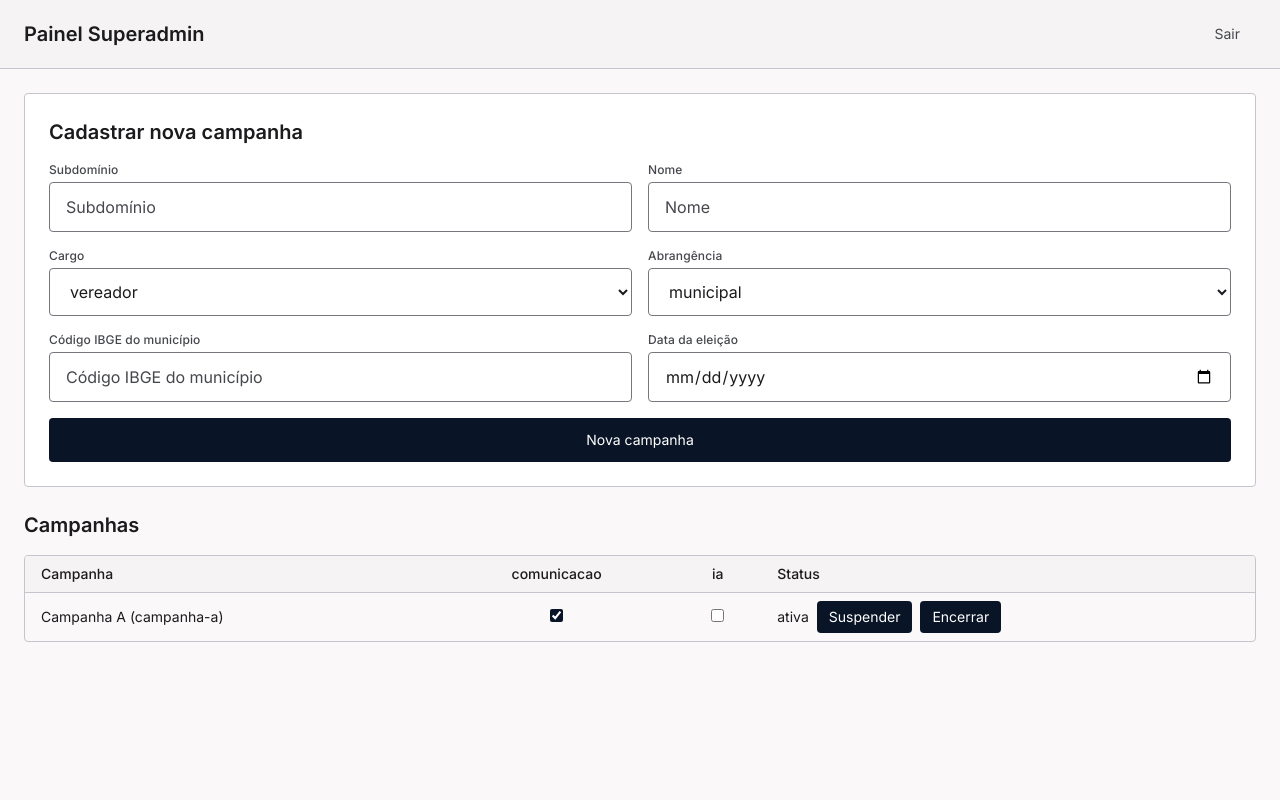
Test: DashboardSuperadminClient › erro na criação mostra body.erro em role="alert"
This screenshot has width=1280, height=800.
Expected: the text "Campanha A (campanha-a)" is shown, x1=25 y1=592 x2=439 y2=641
Type "campanha-a" into the field with placeholder "Subdomínio". click: (340, 207)
box: x1=49 y1=182 x2=632 y2=232
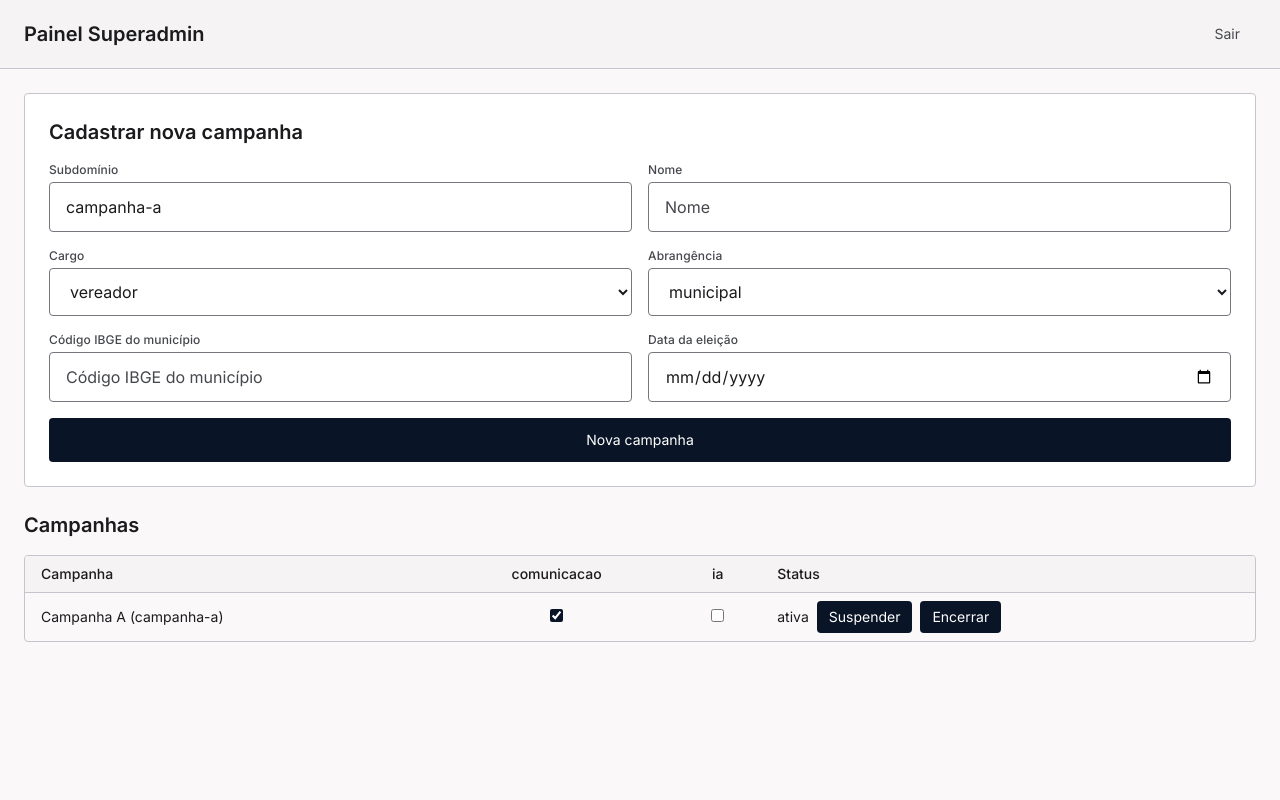
Type "Duplicada" into the field with placeholder "Nome". click: (940, 207)
box: x1=648 y1=182 x2=1231 y2=232
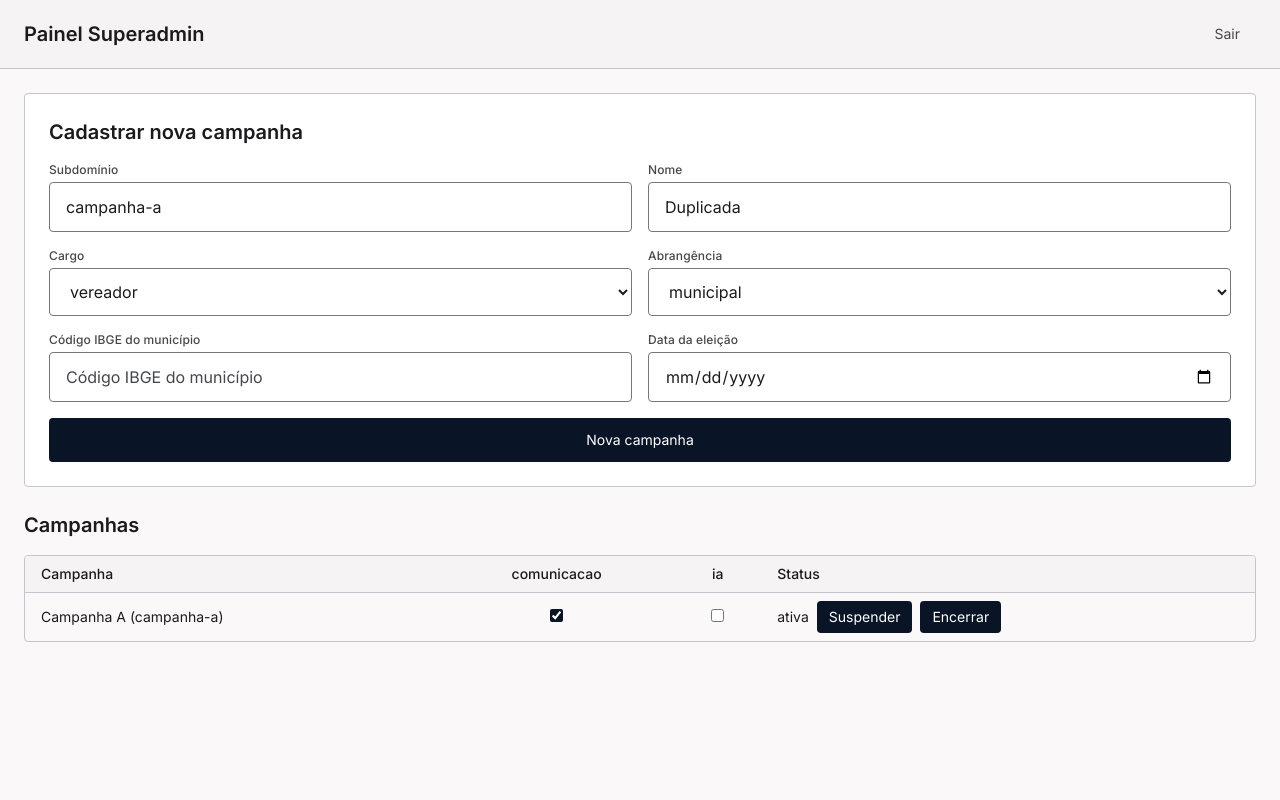
Type "2211001" into the number field with placeholder "Código IBGE do município". click: (340, 377)
box: x1=49 y1=352 x2=632 y2=402
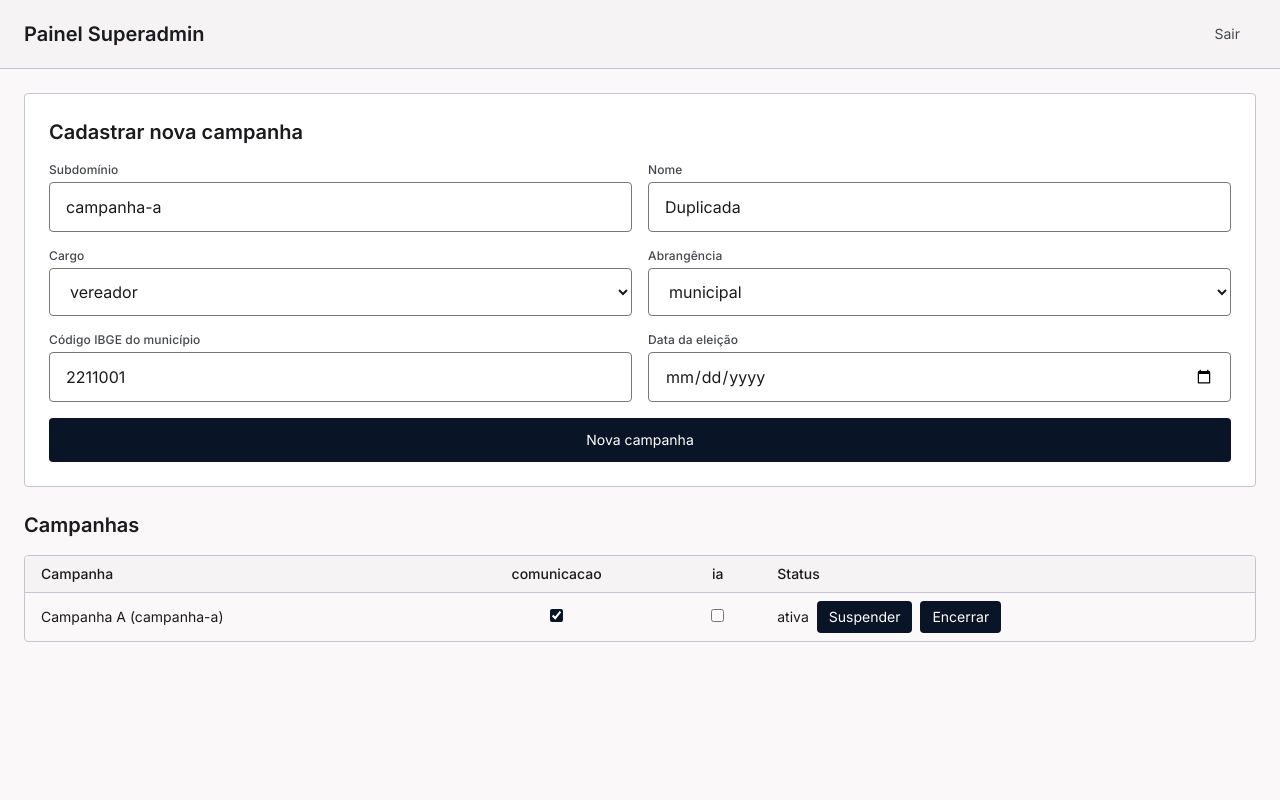
Type "2028-10-01" into the date field with placeholder "Data da eleição". click: (940, 377)
box: x1=648 y1=352 x2=1231 y2=402
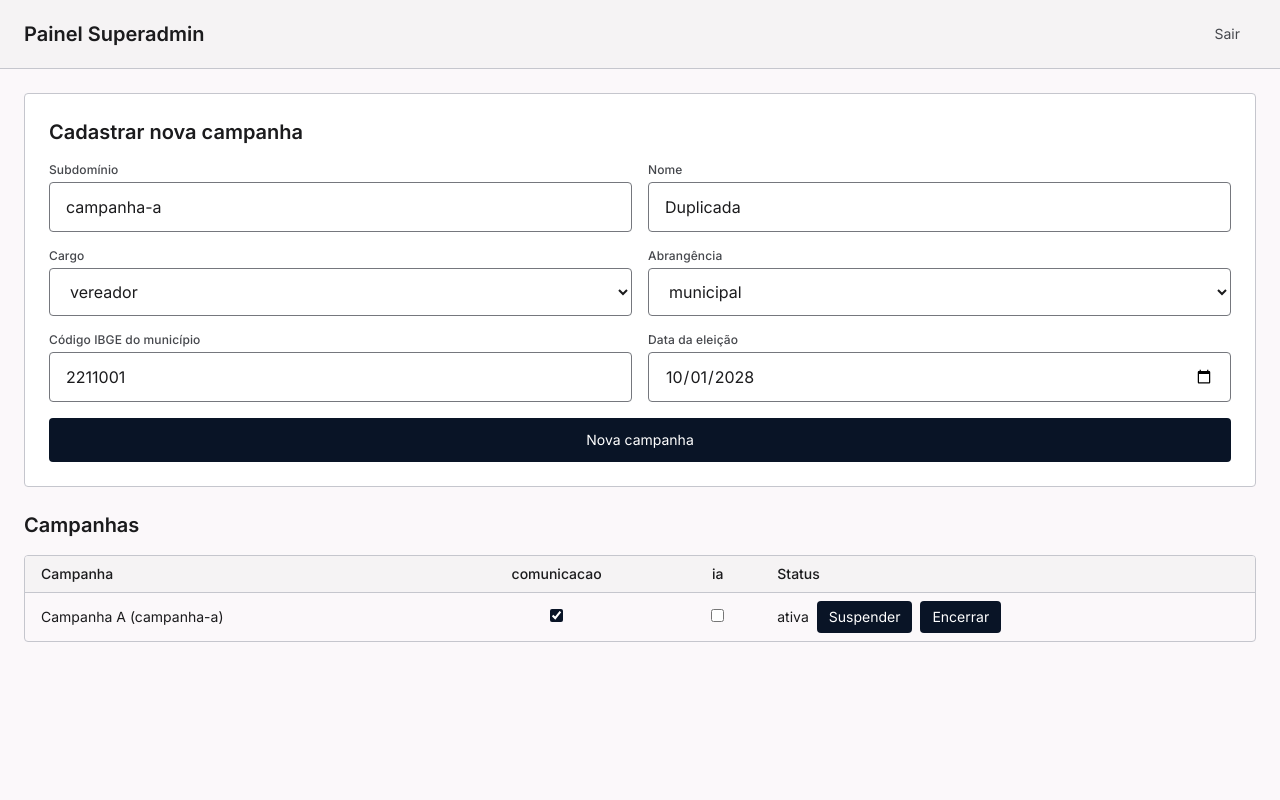
Click the button "Nova campanha". click: (640, 440)
box: x1=49 y1=418 x2=1231 y2=462
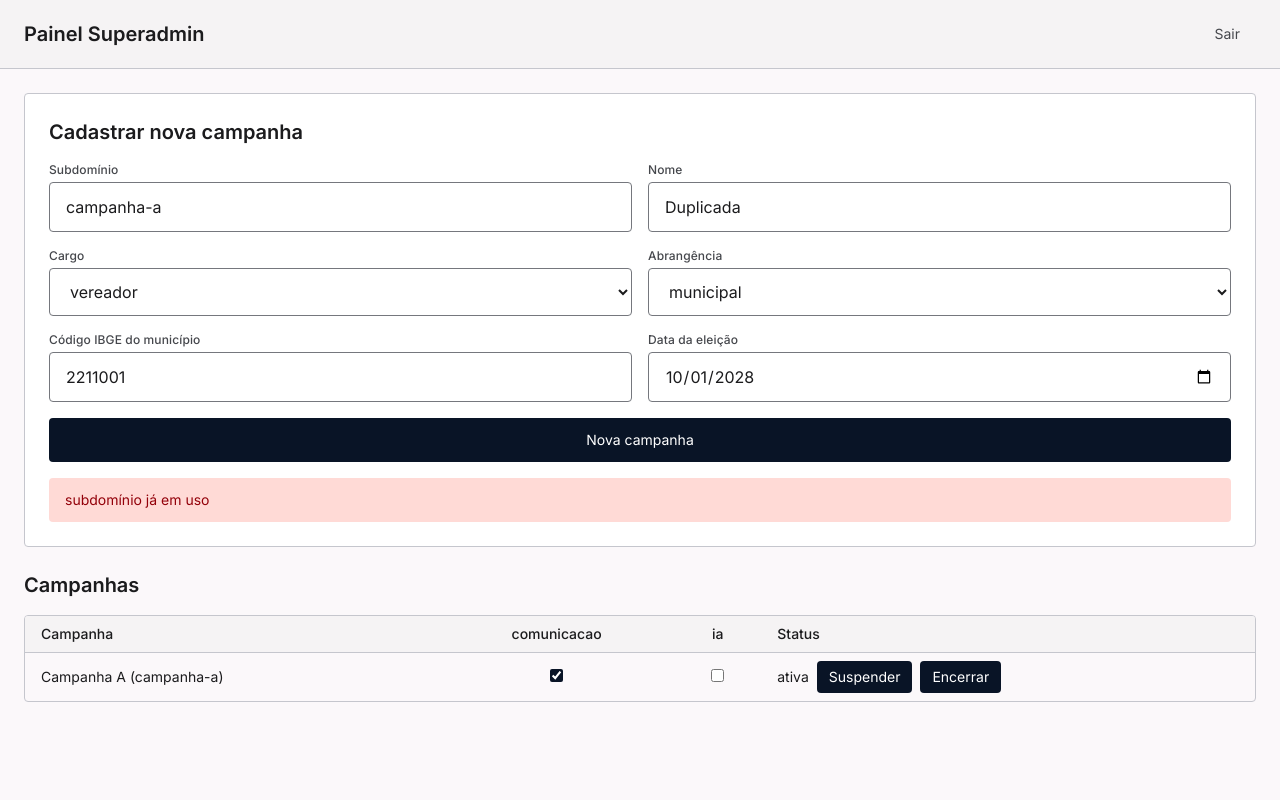
Expected: the message reads "subdomínio já em uso", x1=65 y1=491 x2=210 y2=508
